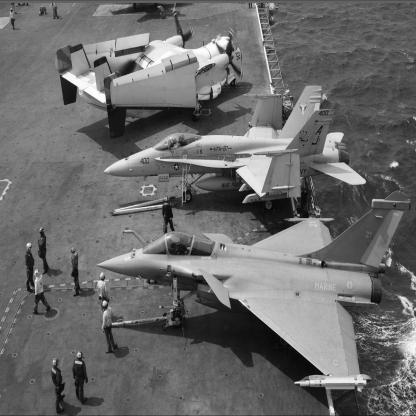E2: (56, 9, 245, 140)
F18: (105, 87, 368, 212)
Rafale: (97, 189, 412, 393)
